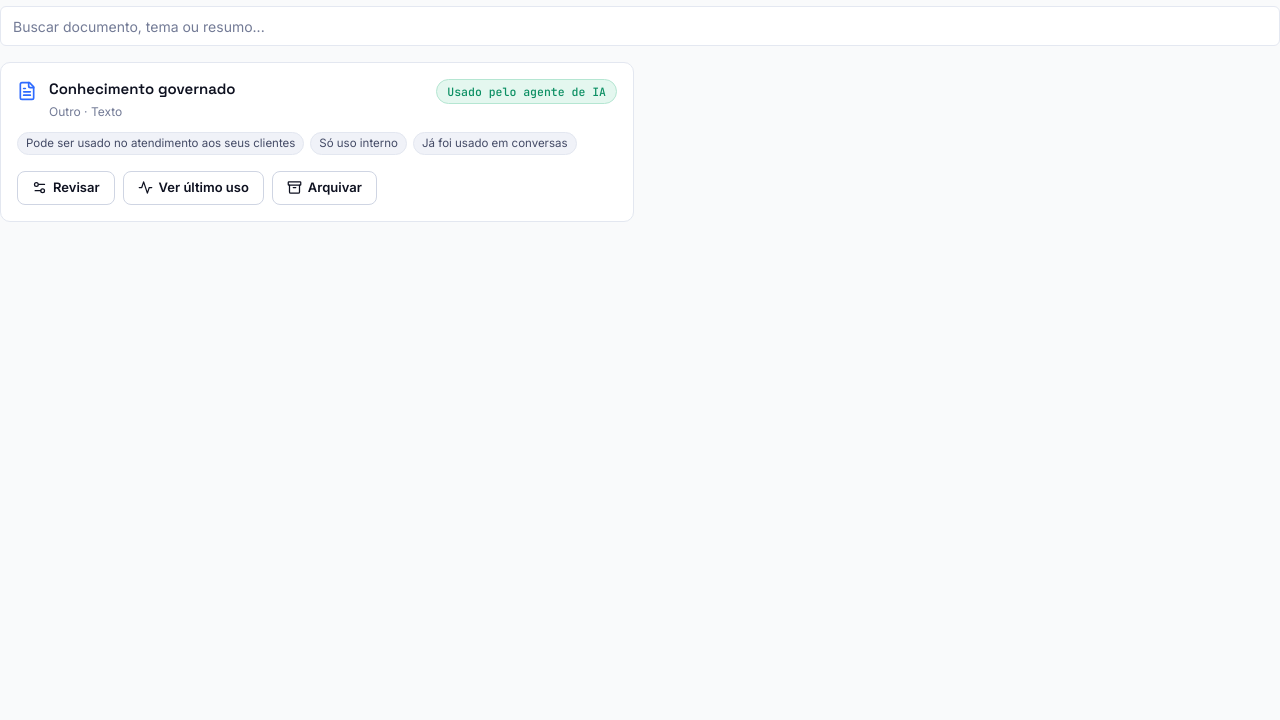
it: KnowledgeLibrary publication dialog › só apresenta uso confirmado quando o rastreio acessível pode ser aberto
Click the button "Ver último uso" at (193, 188), box [123,171,264,205]
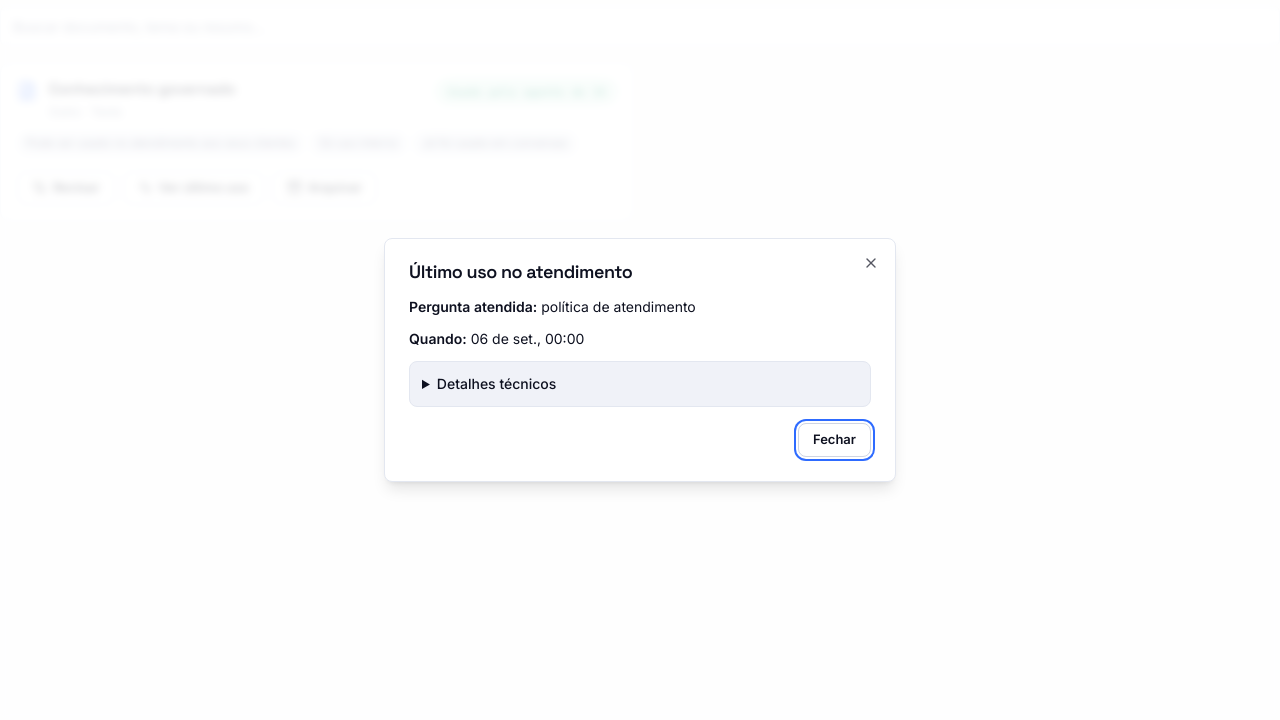
Expected: the text "política de atendimento" is shown, [541,298,696,315]
